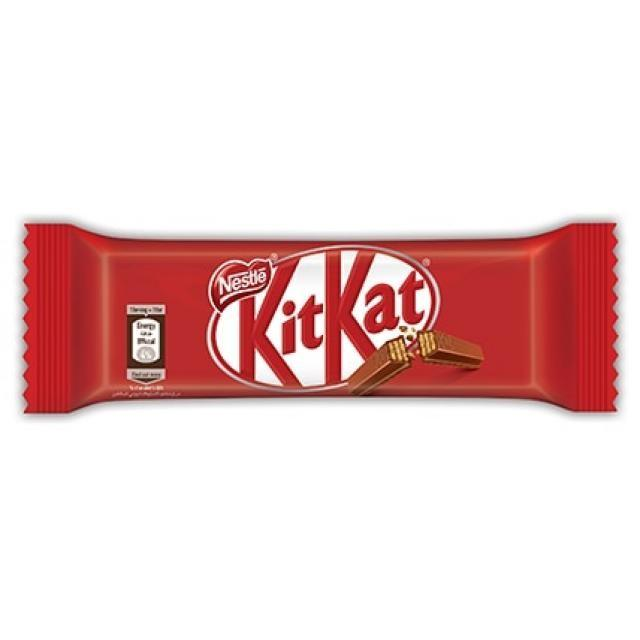kitkat_chocolate: (29, 212, 598, 408)
